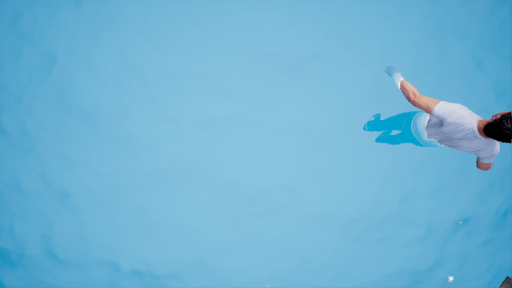person: (363, 60, 512, 179)
